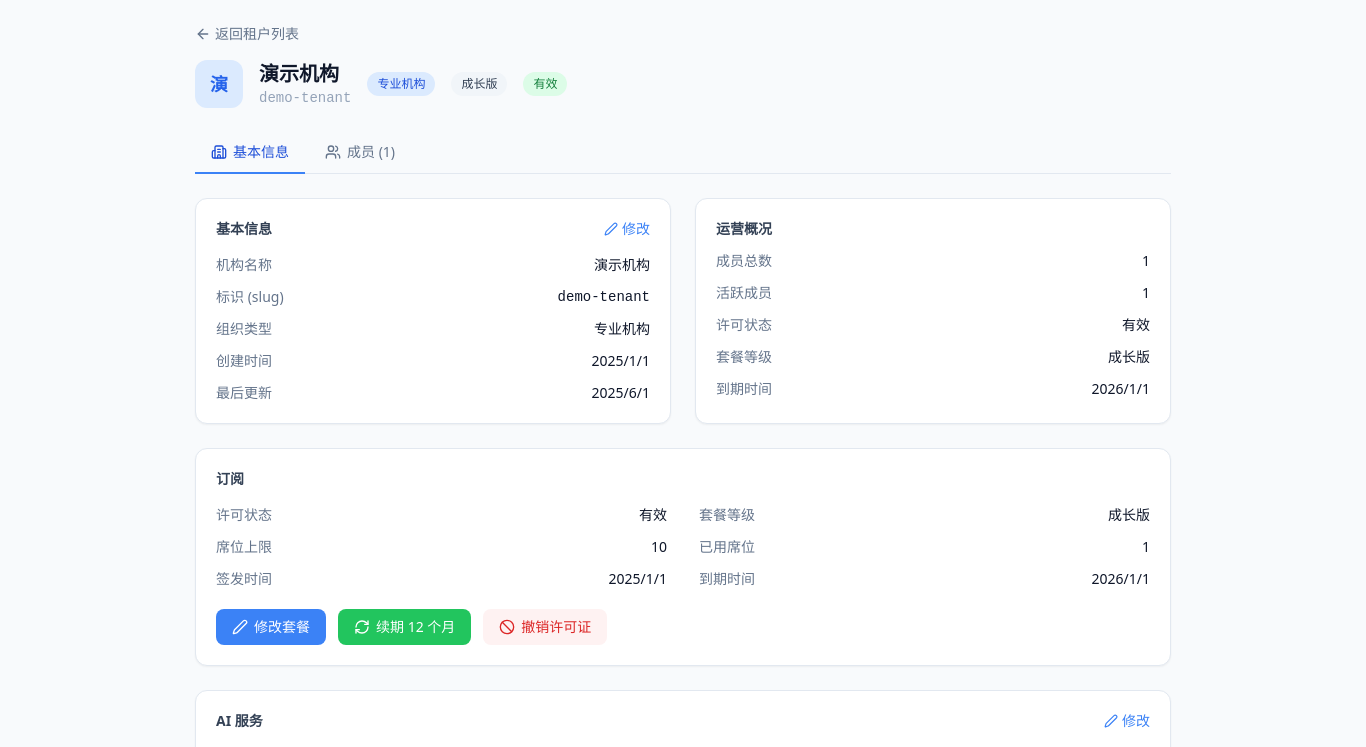
Test case: TenantDetail — post-merge characterization › per-card 修改 button puts only that card into edit mode
What coordinates should you click on to do the following:
click the button "修改" next to "运营概况"
I would click on:
 (627, 229)
Its box is [604, 219, 650, 239].
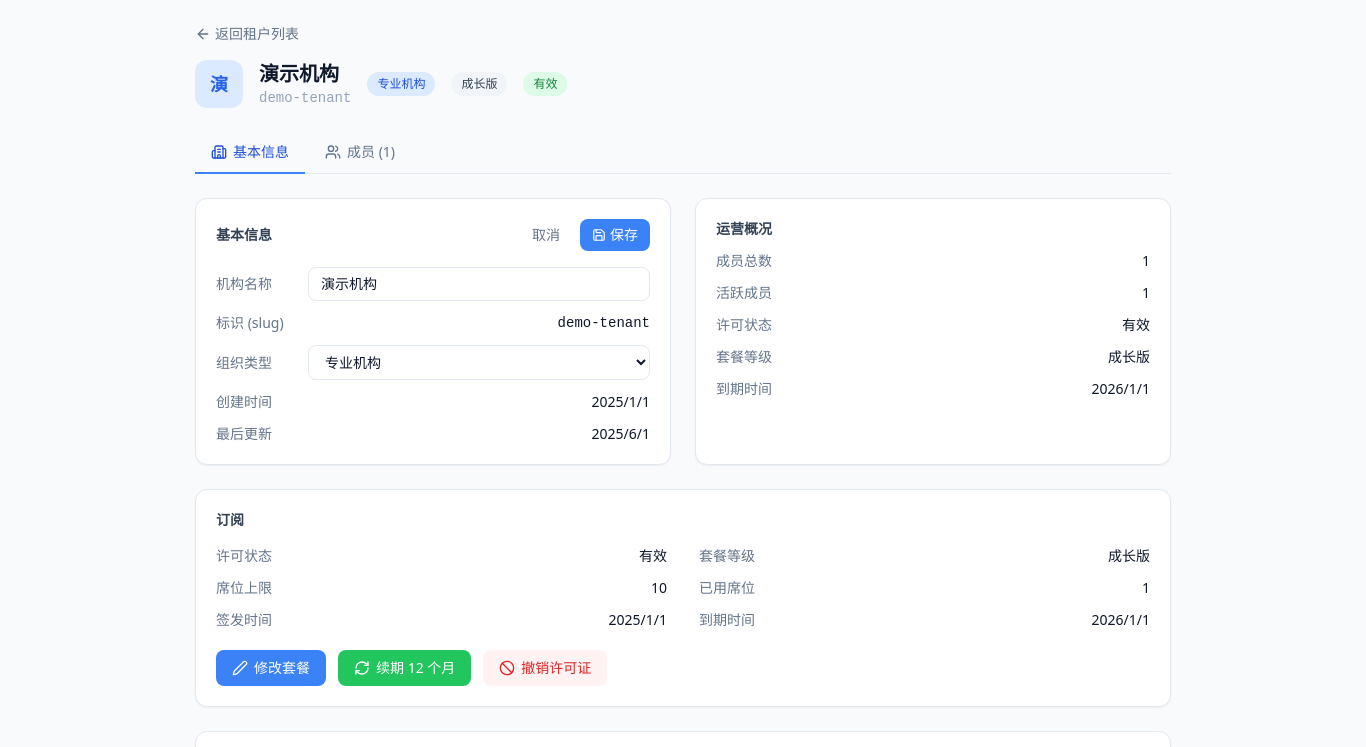
Result: the button "保存" is shown at [580, 219, 650, 251]
Result: the button "取消" is shown at [520, 219, 572, 251]
